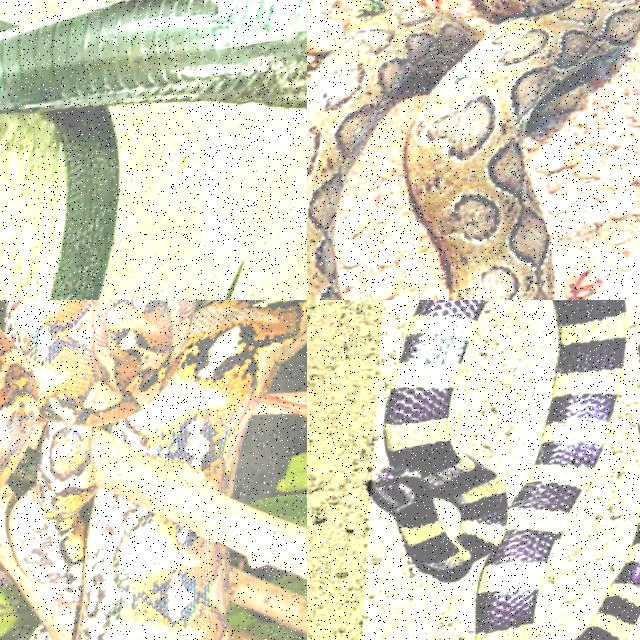Bungarus fasciatus: (370, 300, 627, 639)
Daboia siamensis: (307, 0, 639, 299)
Malayopython reticulatus: (0, 300, 306, 600)
Naja siamensis: (0, 0, 306, 299)
snake: (307, 0, 639, 299), (0, 300, 306, 600), (0, 0, 306, 299), (370, 300, 627, 639)
